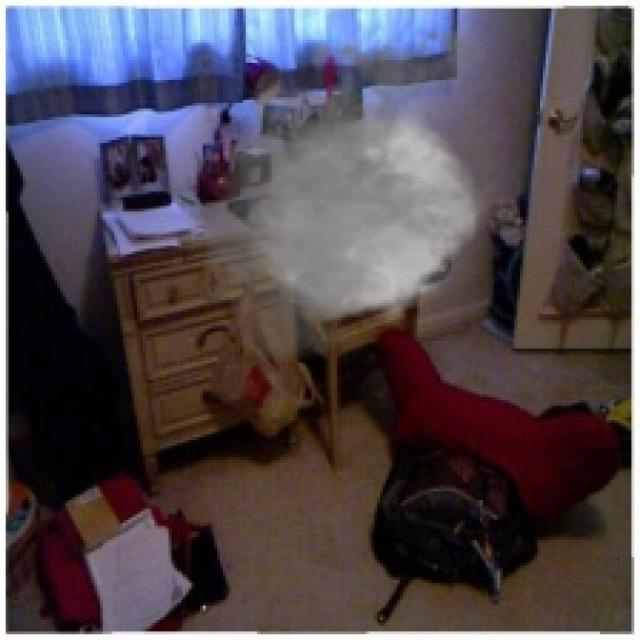smoke: (177, 17, 546, 374)
